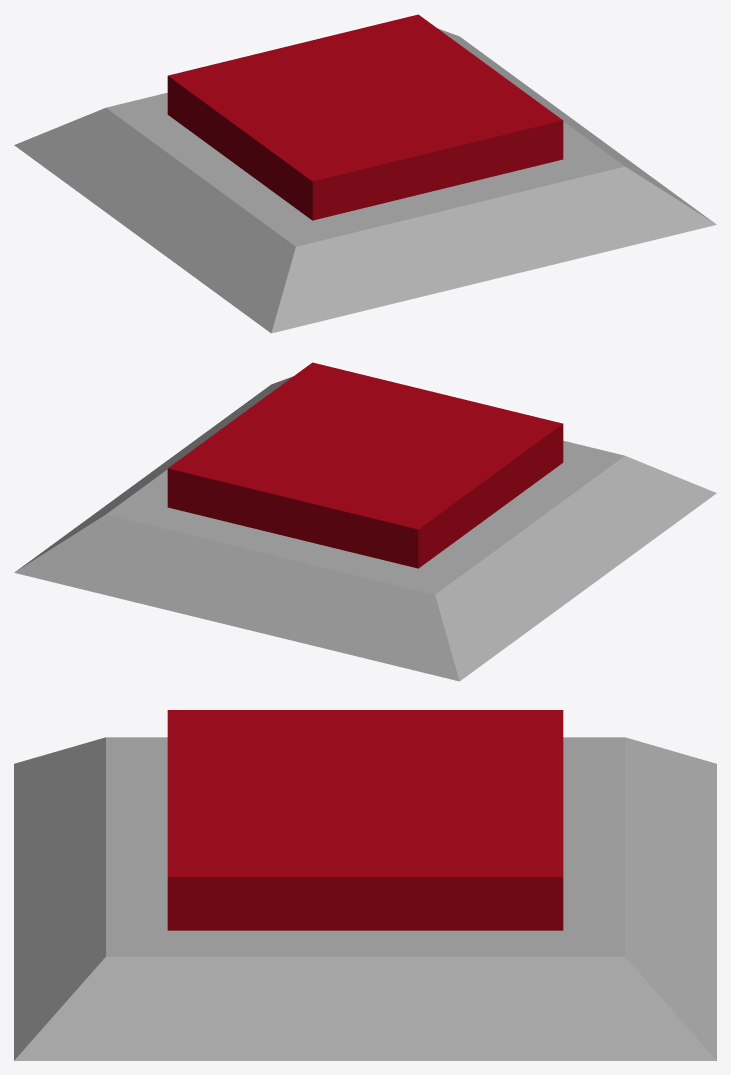
File: button.fbx
The picture shows the model from 3 angles, top to bottom: view 1: azimuth 30°, elevation 25°; view 2: azimuth 150°, elevation 25°; view 3: azimuth 270°, elevation 25°; orthographic projection. The views are drawn at different scales.
Visible parts, largest first — view 1: Cube, Cube.001; view 2: Cube, Cube.001; view 3: Cube, Cube.001.
Boxes of the visible parts, <box> form: Cube: <box>14,28,716,333</box>; Cube.001: <box>167,14,563,220</box>; Cube: <box>14,376,716,681</box>; Cube.001: <box>167,362,563,568</box>; Cube: <box>14,737,716,1060</box>; Cube.001: <box>167,710,563,930</box>.
Bounding box in the file's own units: 356 × 66.3 × 356.
